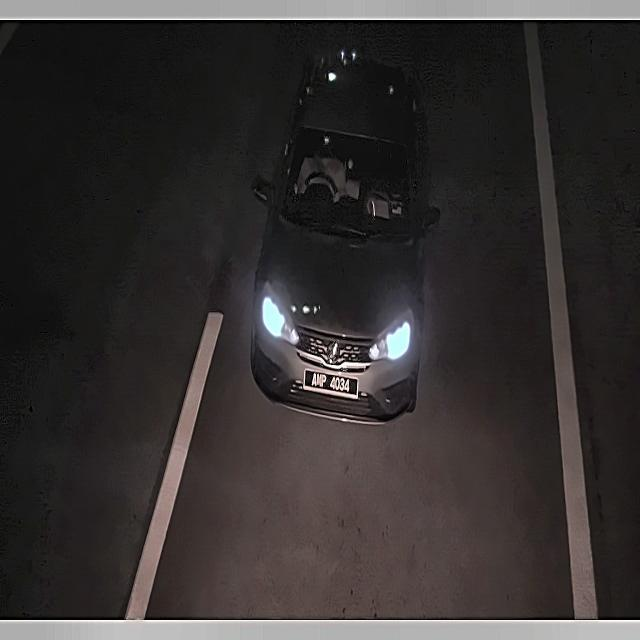car: (301, 360, 363, 406)
